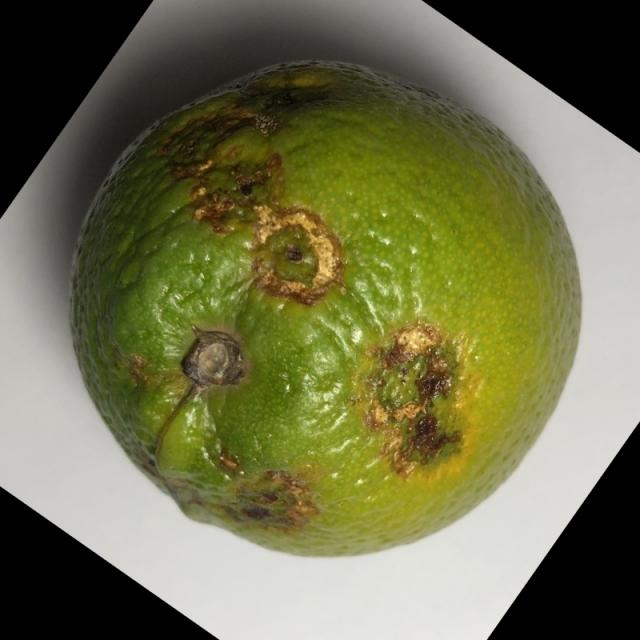canker: (46, 38, 601, 583)
